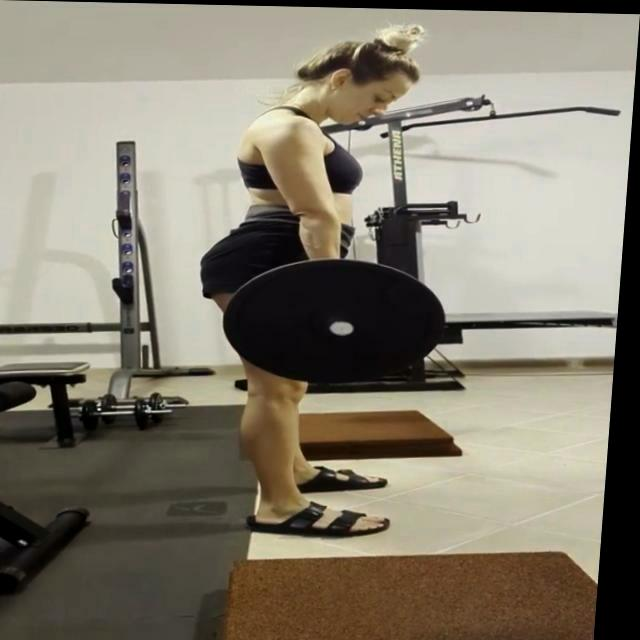barbell: (218, 250, 462, 387)
